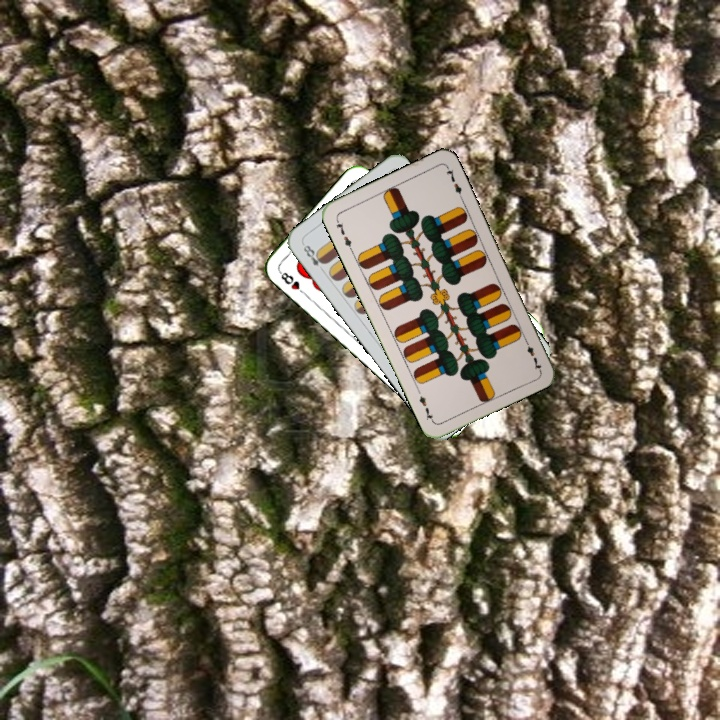E7: (520, 334, 544, 373), (332, 215, 355, 253)
E8: (299, 240, 329, 269)
H8: (275, 267, 309, 298)
